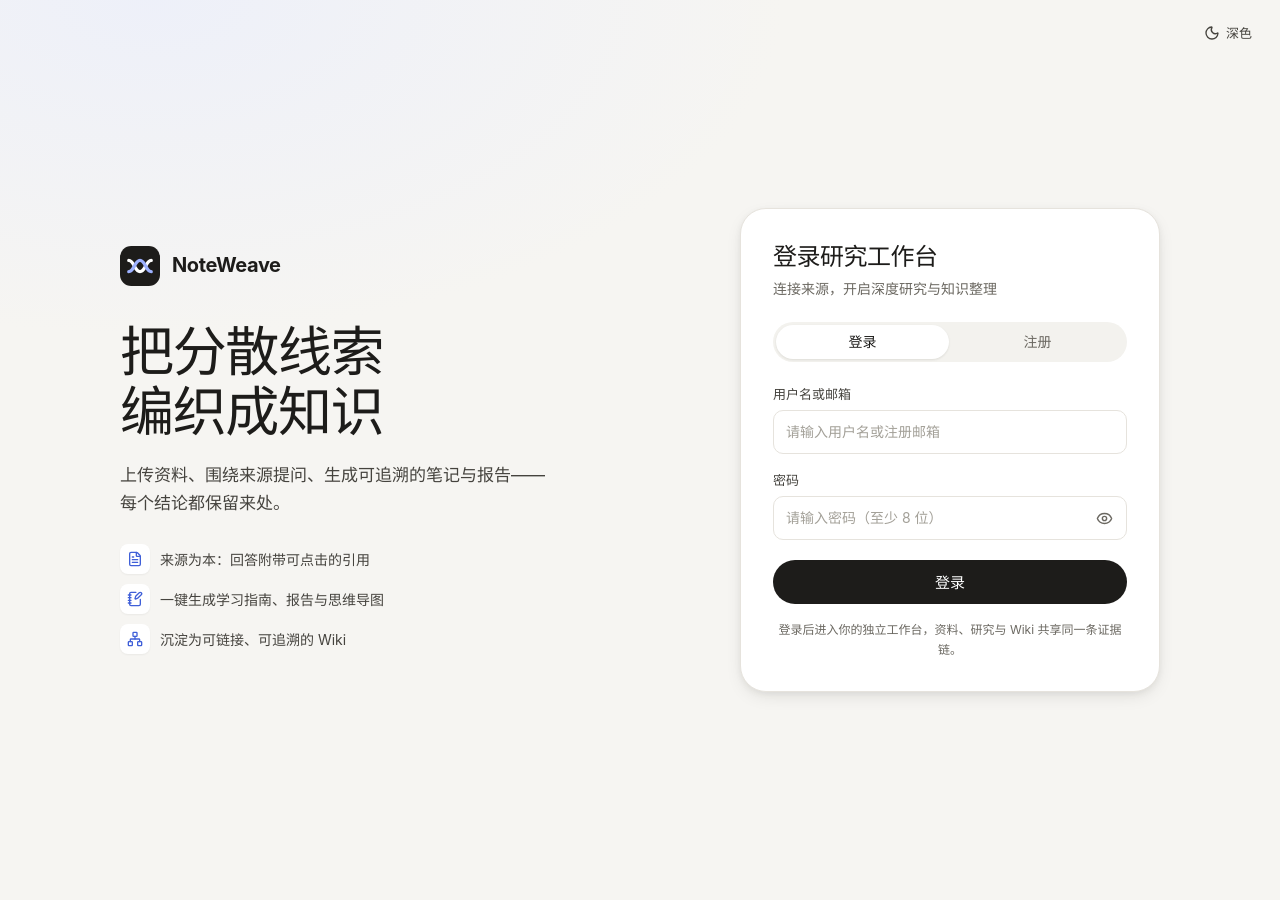
AuthGate › handles login failure and displays error alert
Expected: the heading "登录研究工作台" is shown, [773,242,938,271]
Step 1. Type "testuser" into the field labelled "用户名或邮箱" → coordinates (950, 432), box [773,410,1127,454]
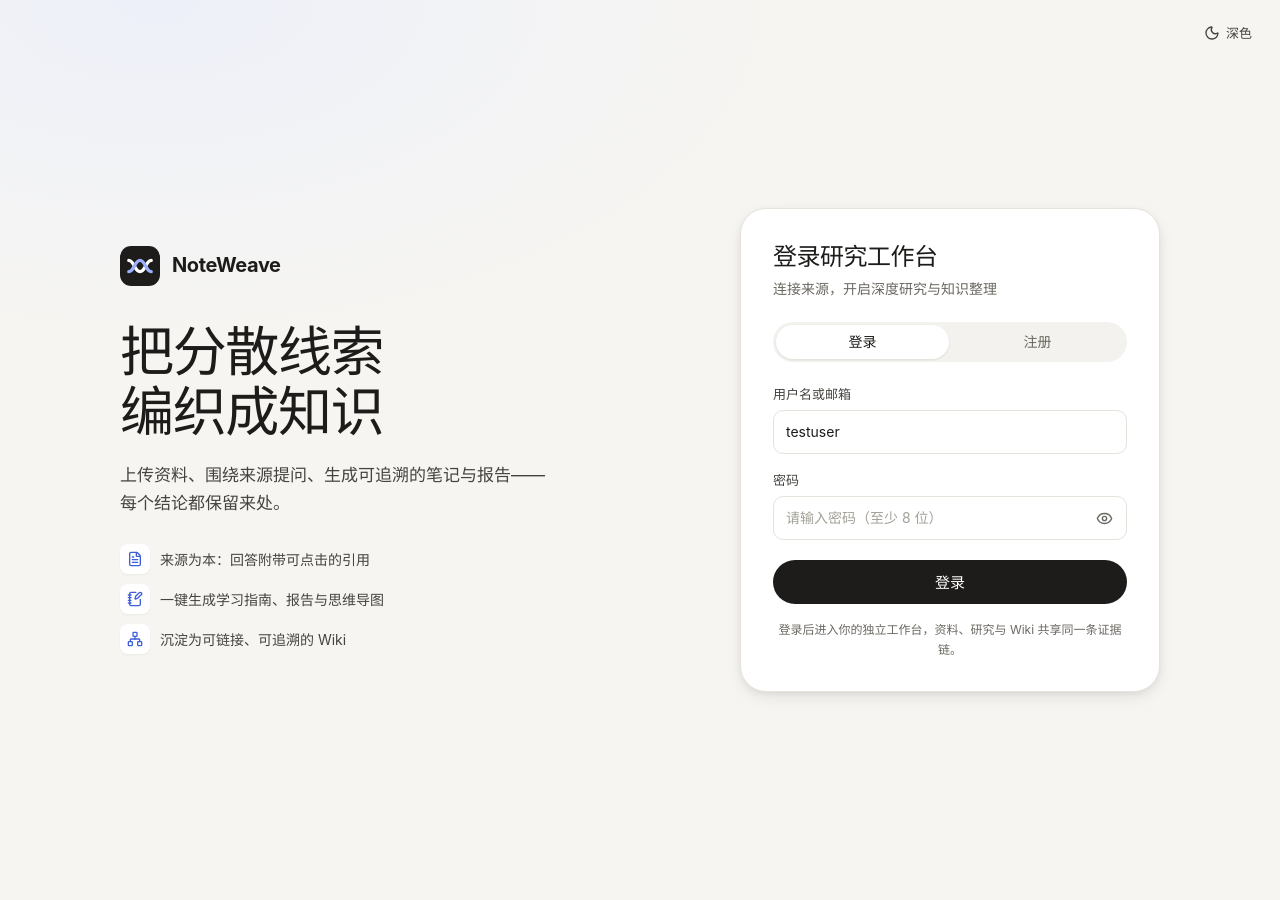
Step 2. Type "wrongpass" into the password field labelled "密码" → coordinates (950, 518), box [773,496,1127,540]
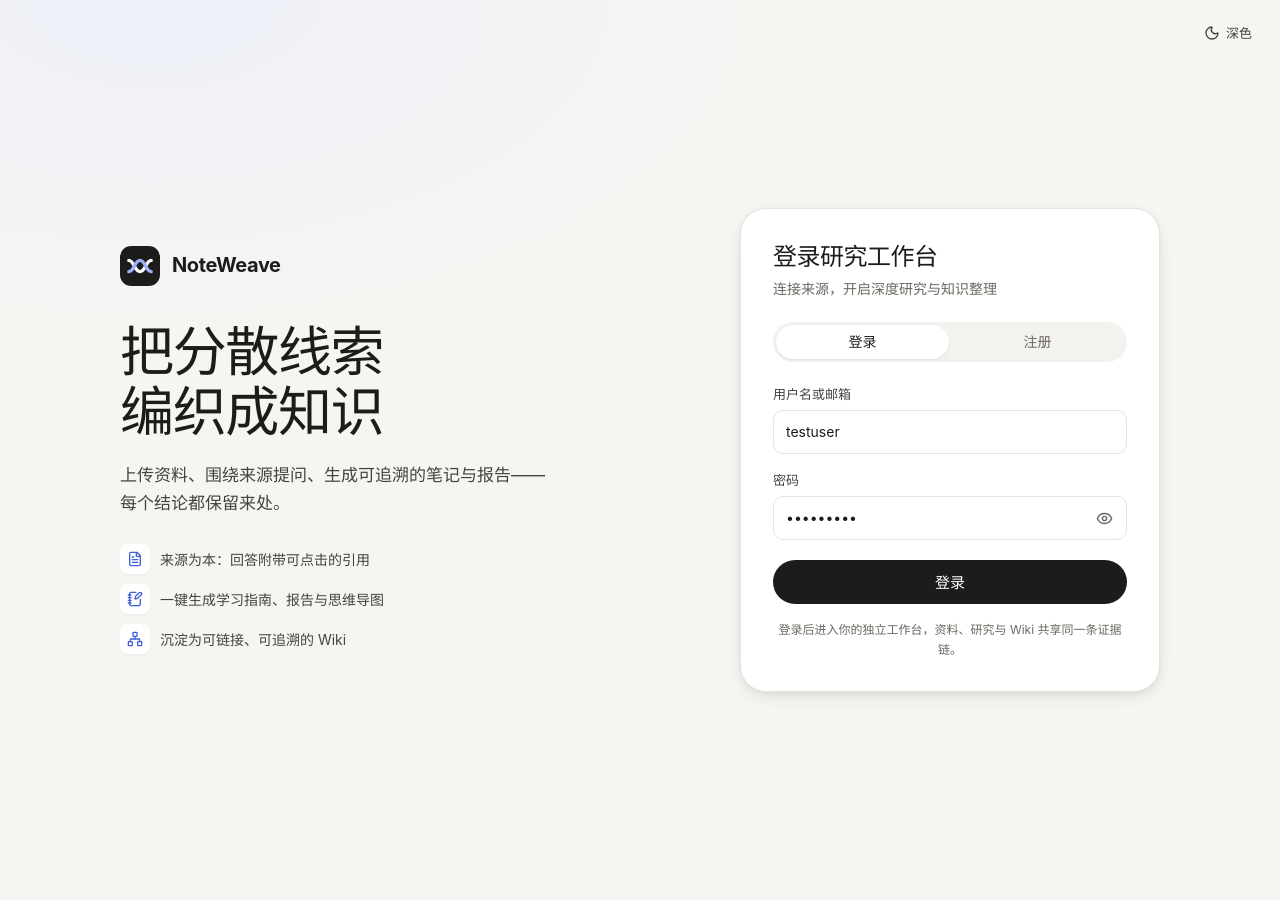
Step 3. Click the button "登录" → coordinates (950, 582), box [773,560,1127,604]
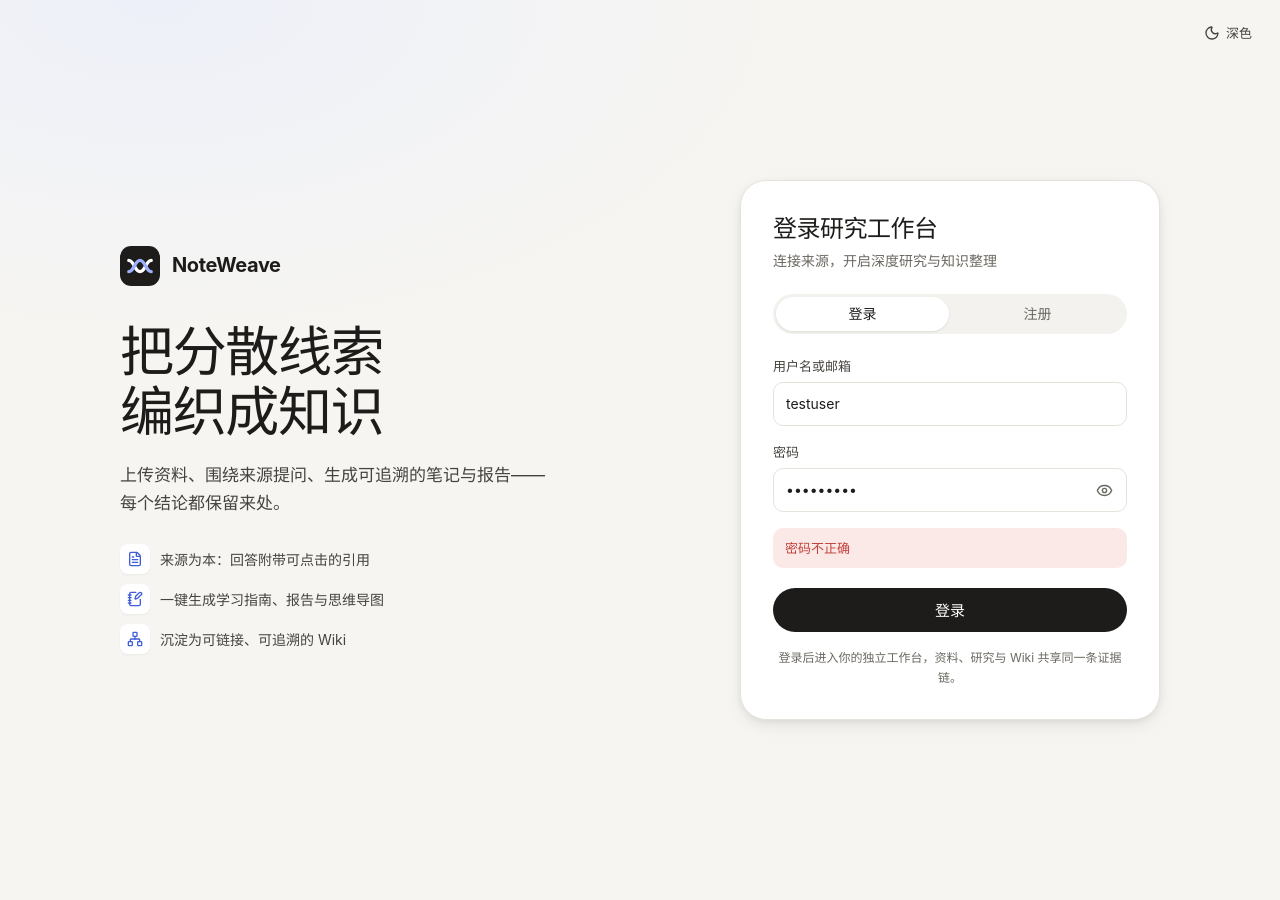
Expected: the message reads "密码不正确", [785,540,850,556]
